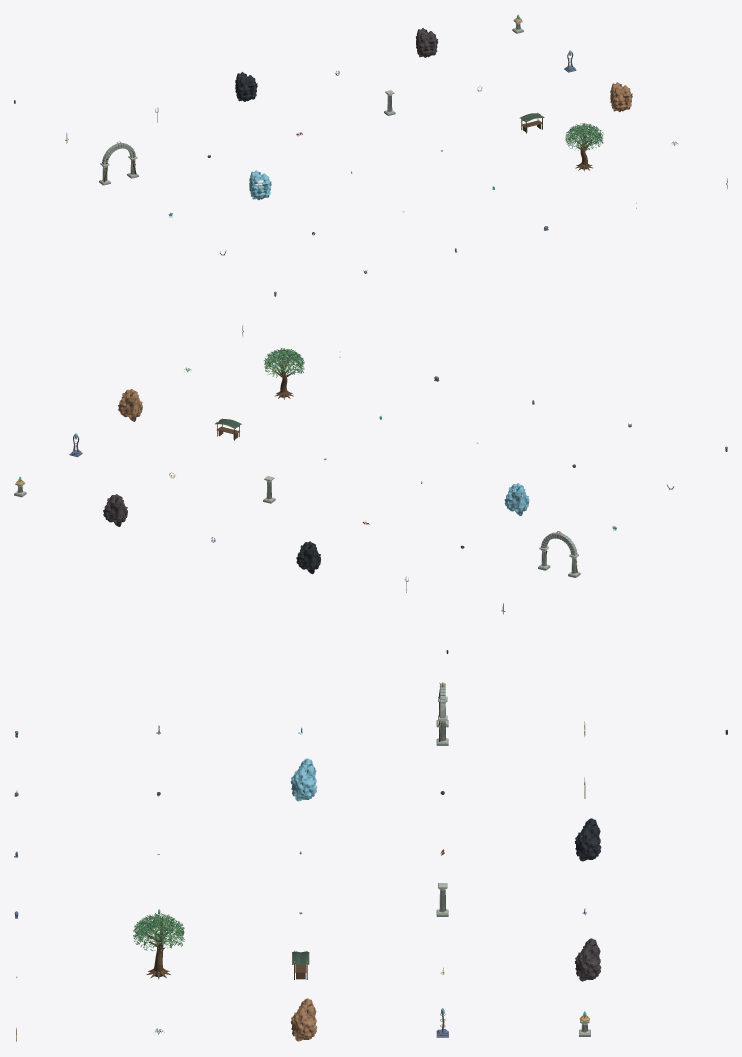
File: Eldoria-import-library.fbx
3 renders of one model, top to bottom at view 1: azimuth 30°, elevation 25°; view 2: azimuth 150°, elevation 25°; view 3: azimuth 270°, elevation 25°, orthographic. The views are drawn at different scales.
Parts seen in each view (by area): view 1: ElderOak__LeafDark, ElderOak__LeafLight, MesaCrag__Mesa, UnderworldCrag__Obsidian, VolcanicCrag__Basalt, GlacialCrag__Glacier, MoonGate__Sandstone; view 2: ElderOak__LeafLight, ElderOak__LeafDark, MoonGate__Sandstone, MesaCrag__Mesa, VolcanicCrag__Basalt, UnderworldCrag__Obsidian, GlacialCrag__Glacier; view 3: ElderOak__LeafLight, ElderOak__LeafDark, MesaCrag__Mesa, UnderworldCrag__Obsidian, GlacialCrag__Glacier, VolcanicCrag__Basalt.
Boxes of the visible parts, x1,y1,x2,y2 form: ElderOak__LeafDark: [565, 123, 603, 150]; ElderOak__LeafLight: [565, 123, 603, 150]; MesaCrag__Mesa: [610, 82, 632, 112]; UnderworldCrag__Obsidian: [235, 72, 257, 101]; VolcanicCrag__Basalt: [416, 28, 438, 57]; GlacialCrag__Glacier: [249, 170, 271, 200]; MoonGate__Sandstone: [99, 143, 138, 185]; ElderOak__LeafLight: [264, 348, 304, 377]; ElderOak__LeafDark: [264, 348, 304, 376]; MoonGate__Sandstone: [538, 532, 580, 577]; MesaCrag__Mesa: [118, 389, 142, 421]; VolcanicCrag__Basalt: [103, 494, 127, 526]; UnderworldCrag__Obsidian: [296, 541, 320, 574]; GlacialCrag__Glacier: [504, 483, 529, 515]; ElderOak__LeafLight: [133, 913, 185, 951]; ElderOak__LeafDark: [133, 913, 184, 950]; MesaCrag__Mesa: [290, 998, 317, 1041]; UnderworldCrag__Obsidian: [575, 818, 601, 861]; GlacialCrag__Glacier: [290, 758, 317, 801]; VolcanicCrag__Basalt: [575, 938, 601, 981].
Bounding box in the file's own units: 239 × 23.13 × 226.
Materials: 20 (4 with a texture image).
